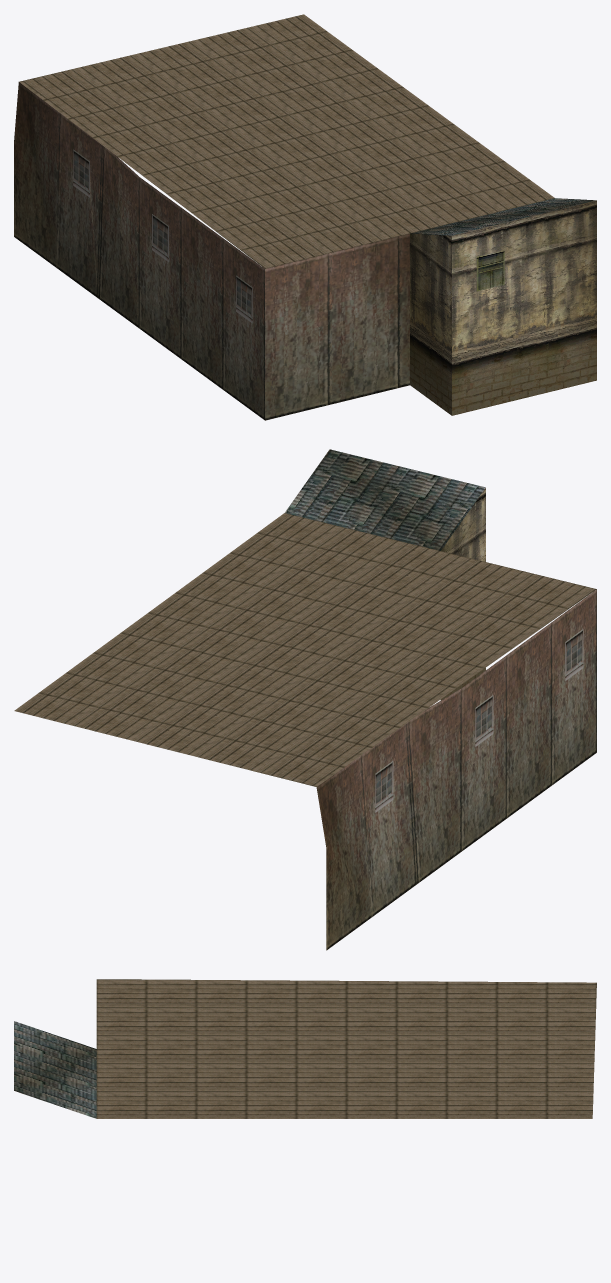
The model's file is M10_Z02_13_WareHouses.glb.
The picture shows the model from 3 angles, top to bottom: view 1: azimuth 30°, elevation 25°; view 2: azimuth 150°, elevation 25°; view 3: azimuth 270°, elevation 25°; orthographic projection. The views are drawn at different scales.
Parts seen in each view (by area): view 1: M10_Z02_13_WAREHOUSES; view 2: M10_Z02_13_WAREHOUSES; view 3: M10_Z02_13_WAREHOUSES.
Part boxes in pixels (bbox=[...]): M10_Z02_13_WAREHOUSES: bbox=[14, 14, 596, 420]; M10_Z02_13_WAREHOUSES: bbox=[14, 449, 596, 950]; M10_Z02_13_WAREHOUSES: bbox=[14, 979, 596, 1118].
Size of the model in its own units: 16 by 9.5 by 28.21.
6 materials, 6 textured.
